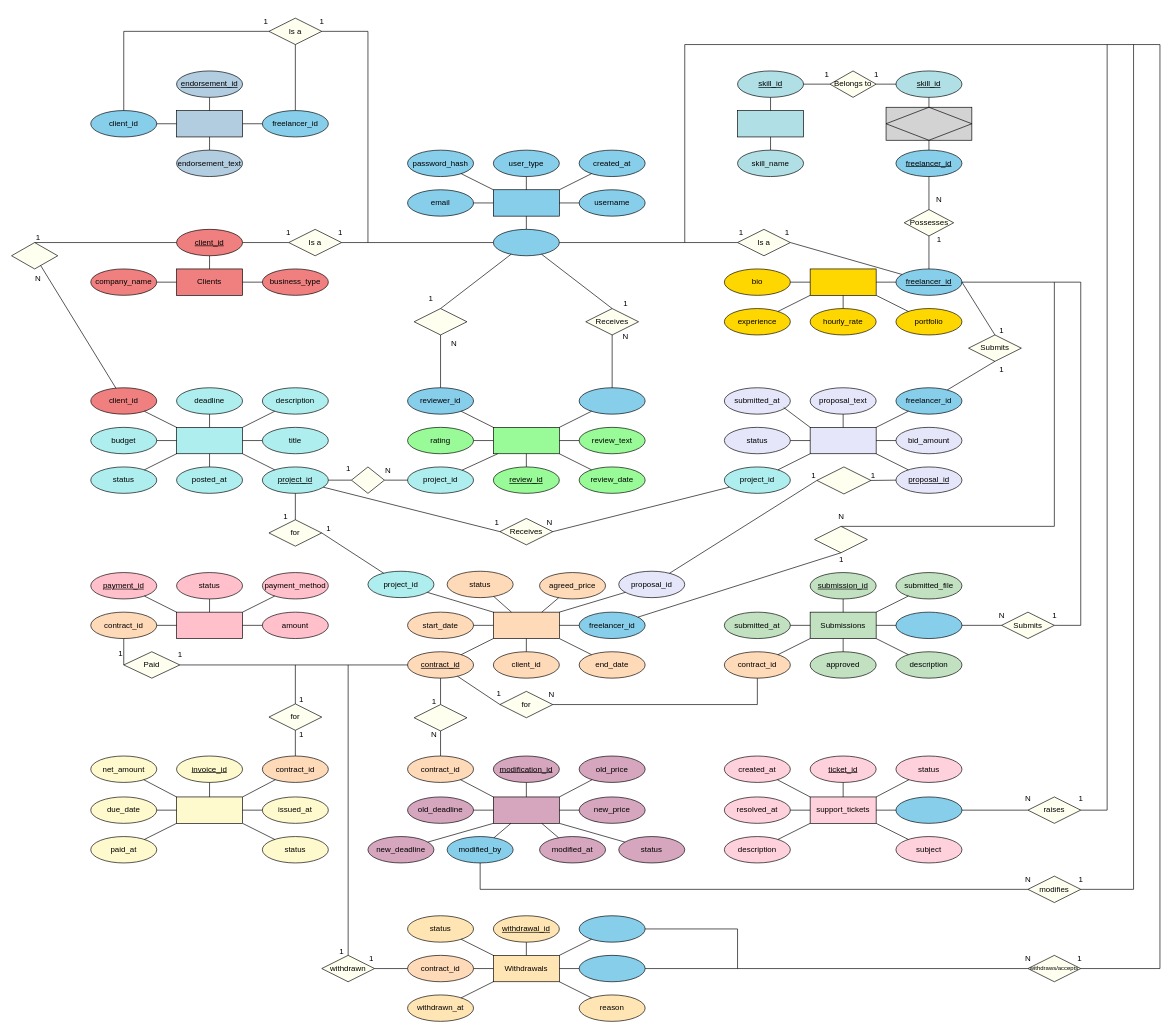
This 1172x1033 diagram has some shape labels left out. The centre of each missing label's shape, as x and y in pixels:
Accepted as: (843,480)
approved_by: (611,968)
Assigned to: (840,539)
contract_modification: (526,809)
Contracts: (526,625)
Endorsements: (209,123)
Freelancer_Skills: (928,123)
Freelancers: (842,281)
Has: (367,479)
Invoices: (209,809)
modified as: (440,717)
Payments: (209,625)
Posts: (34,255)
Projects: (209,440)
Proposals: (842,440)
raised_by: (928,809)
requested_by: (611,928)
reviewee_id: (611,400)
Reviews: (526,440)
Skills: (770,123)
submitted by: (928,625)
user_id: (526,242)
Users: (526,202)
Writes: (440,321)
